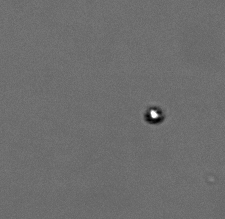Living Cell: (144, 106, 165, 123)
